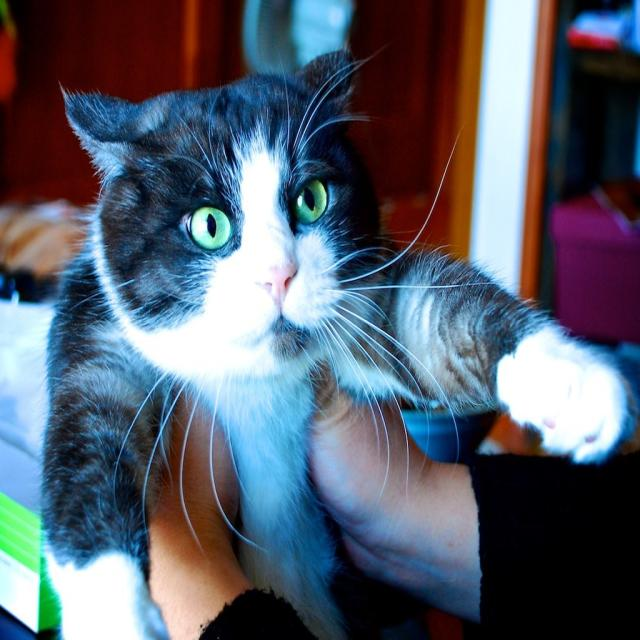Cat: (59, 44, 639, 638)
